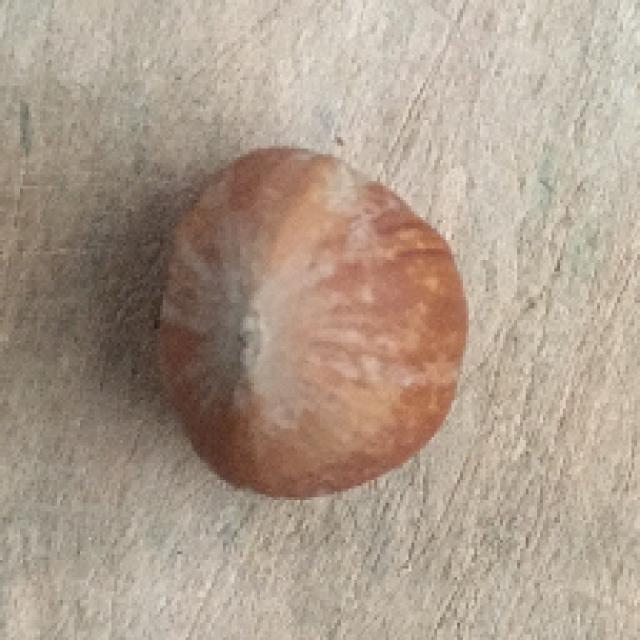qualityHazelnut: (153, 142, 473, 501)
